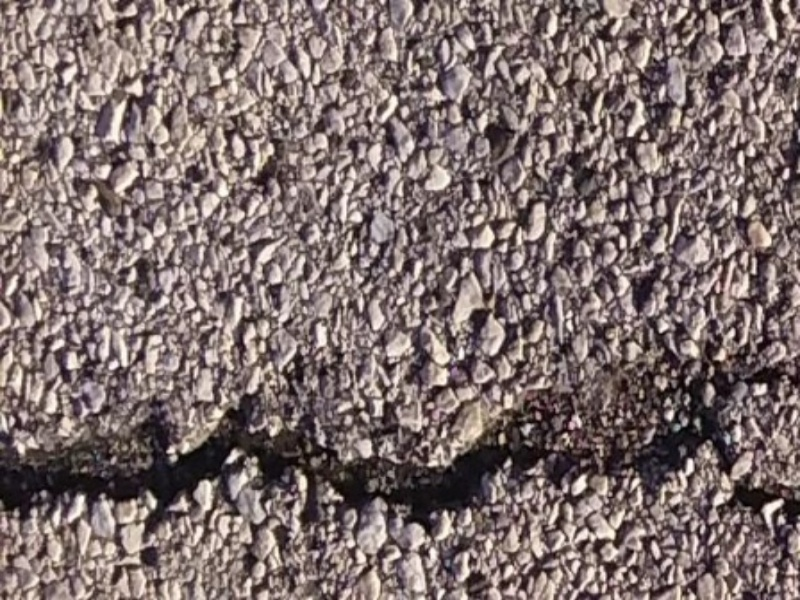crack: (1, 333, 769, 563)
